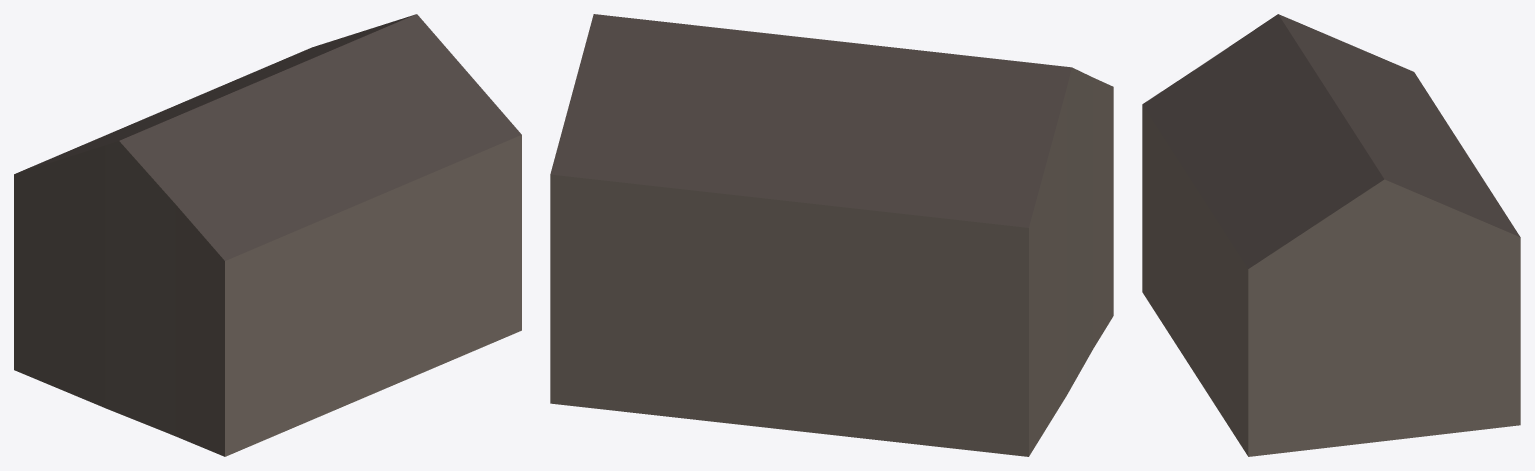
The picture shows the model from 3 angles, left to right: view 1: azimuth 30°, elevation 25°; view 2: azimuth 150°, elevation 25°; view 3: azimuth 270°, elevation 25°; orthographic projection. The views are drawn at different scales.
Parts seen in each view (by area): view 1: HP-w1198843250; view 2: HP-w1198843250; view 3: HP-w1198843250.
Boxes of the visible parts, x1,y1,x2,y2 form: HP-w1198843250: (14,14,521,456); HP-w1198843250: (550,14,1113,456); HP-w1198843250: (1142,14,1520,456).
Size of the model in its own units: 13.51 by 8.36 by 10.95.
